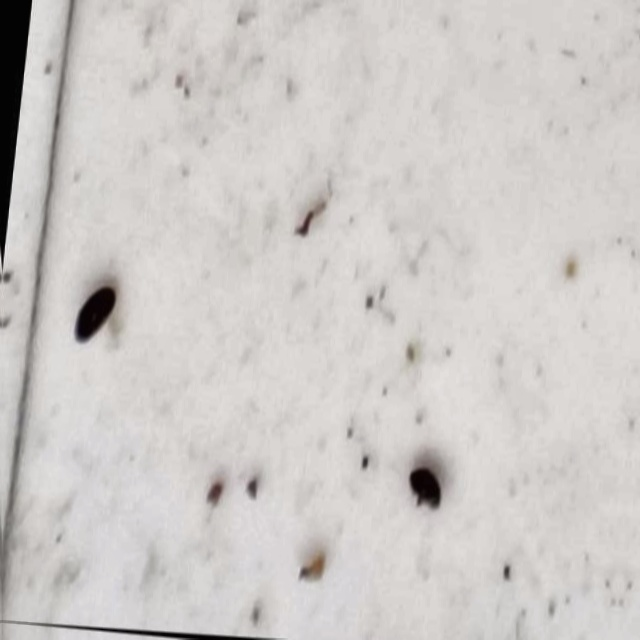varroa: (69, 281, 116, 346), (402, 466, 444, 513)
